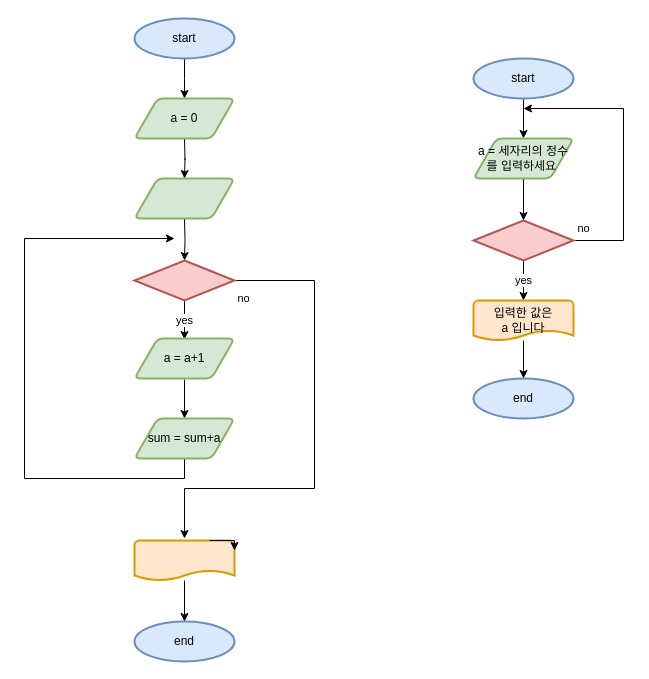
This 649x679 diagram has some shape labels left out. Here are the shapes that lost their labels. From the top down, the box of each, then its label:
(133, 177, 235, 219): sum = 0
(472, 219, 574, 261): a<=100 and a<=999?
(133, 259, 235, 301): a < 100?
(133, 539, 235, 581): sum 출력
